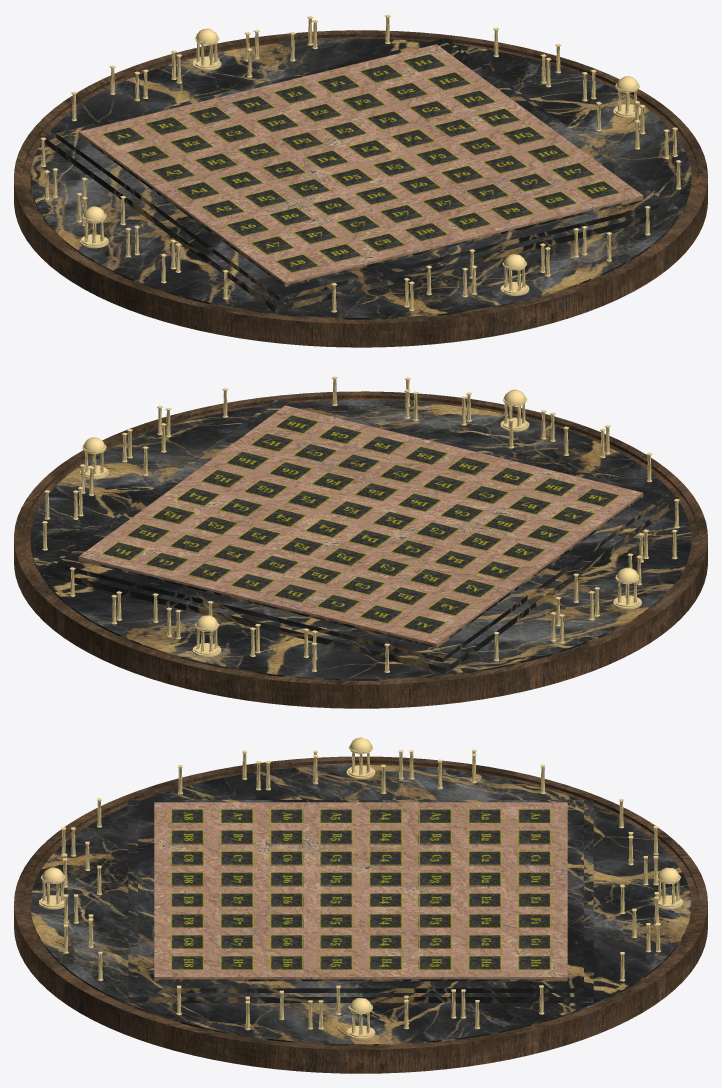
Rendered from tablero8.glb.
The picture shows the model from 3 angles, top to bottom: view 1: azimuth 30°, elevation 25°; view 2: azimuth 150°, elevation 25°; view 3: azimuth 270°, elevation 25°; orthographic projection.
Visible parts, largest first — view 1: BaseCircular, Tabla, Casillas, Madera, Adornos, Casillas.002; view 2: BaseCircular, Tabla, Casillas, Madera, Adornos, Casillas.002; view 3: BaseCircular, Tabla, Casillas, Madera, Adornos, Casillas.002.
Boxes of the visible parts, x1=… form: BaseCircular: x1=30, y1=38, x2=691, y2=319; Tabla: x1=78, y1=44, x2=643, y2=286; Casillas: x1=101, y1=54, x2=620, y2=272; Madera: x1=14, y1=30, x2=707, y2=347; Adornos: x1=40, y1=14, x2=681, y2=312; Casillas.002: x1=102, y1=53, x2=619, y2=272; BaseCircular: x1=30, y1=399, x2=691, y2=680; Tabla: x1=78, y1=405, x2=643, y2=648; Casillas: x1=102, y1=415, x2=620, y2=634; Madera: x1=14, y1=391, x2=707, y2=708; Adornos: x1=42, y1=376, x2=679, y2=672; Casillas.002: x1=102, y1=415, x2=619, y2=633; BaseCircular: x1=30, y1=765, x2=691, y2=1045; Tabla: x1=154, y1=802, x2=567, y2=981; Casillas: x1=171, y1=809, x2=550, y2=969; Madera: x1=14, y1=756, x2=707, y2=1073; Adornos: x1=38, y1=737, x2=683, y2=1039; Casillas.002: x1=171, y1=809, x2=550, y2=969.
Size of the model in its own units: 42 by 3.98 by 42.
Materials: 6 (5 with a texture image).
